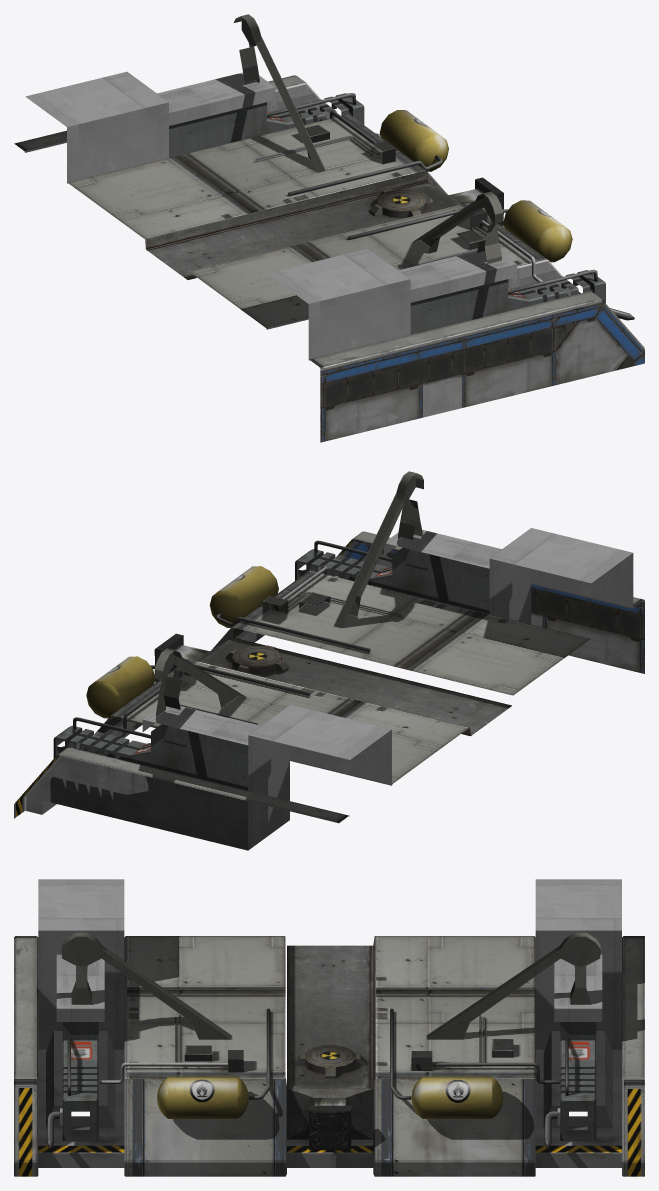
File: ML2_Smasher_L.FBX
The picture shows the model from 3 angles, top to bottom: view 1: azimuth 30°, elevation 25°; view 2: azimuth 150°, elevation 25°; view 3: azimuth 270°, elevation 25°; orthographic projection. The views are drawn at different scales.
Visible parts, largest first — view 1: ML2_Smasher_L; view 2: ML2_Smasher_L; view 3: ML2_Smasher_L.
Part boxes in pixels (x1,y1,x2,y2): ML2_Smasher_L: (14, 14, 644, 442); ML2_Smasher_L: (14, 471, 644, 850); ML2_Smasher_L: (14, 879, 644, 1176).
Bounding box in the file's own units: 20.12 × 10.13 × 32.17.
Materials: 1 (1 with a texture image).
